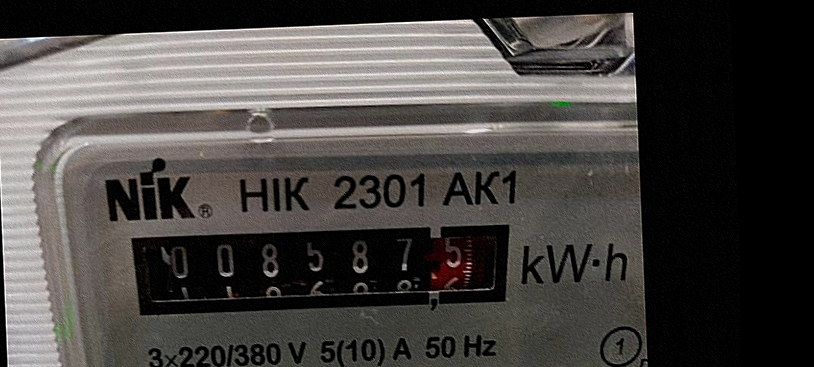0: (212, 239, 238, 279)
1: (166, 240, 192, 282)
5: (441, 230, 467, 271), (303, 236, 328, 275)
7: (392, 233, 417, 275)
8: (256, 239, 283, 281), (348, 235, 371, 277)
screen: (110, 201, 533, 338)
